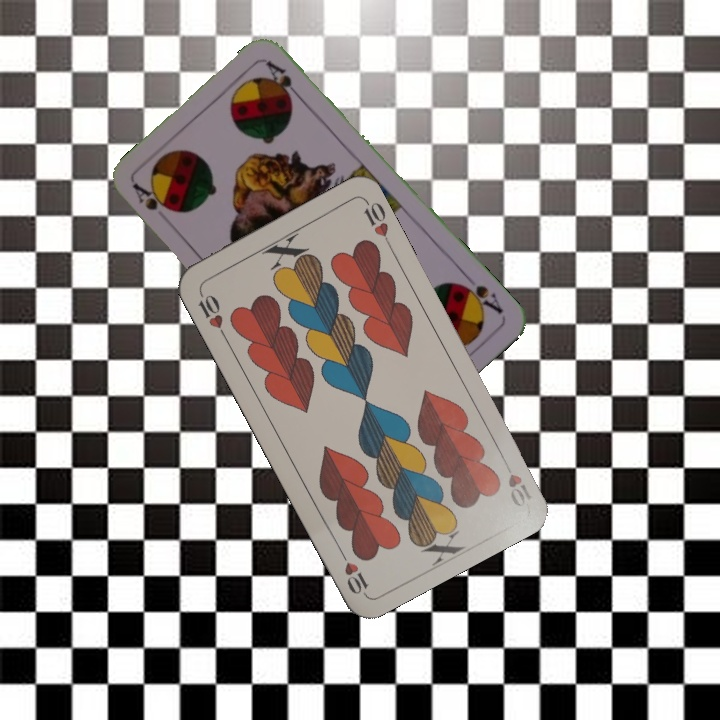H10: (498, 453, 535, 510), (193, 286, 229, 341)
SA: (454, 270, 506, 317), (128, 179, 172, 214)
